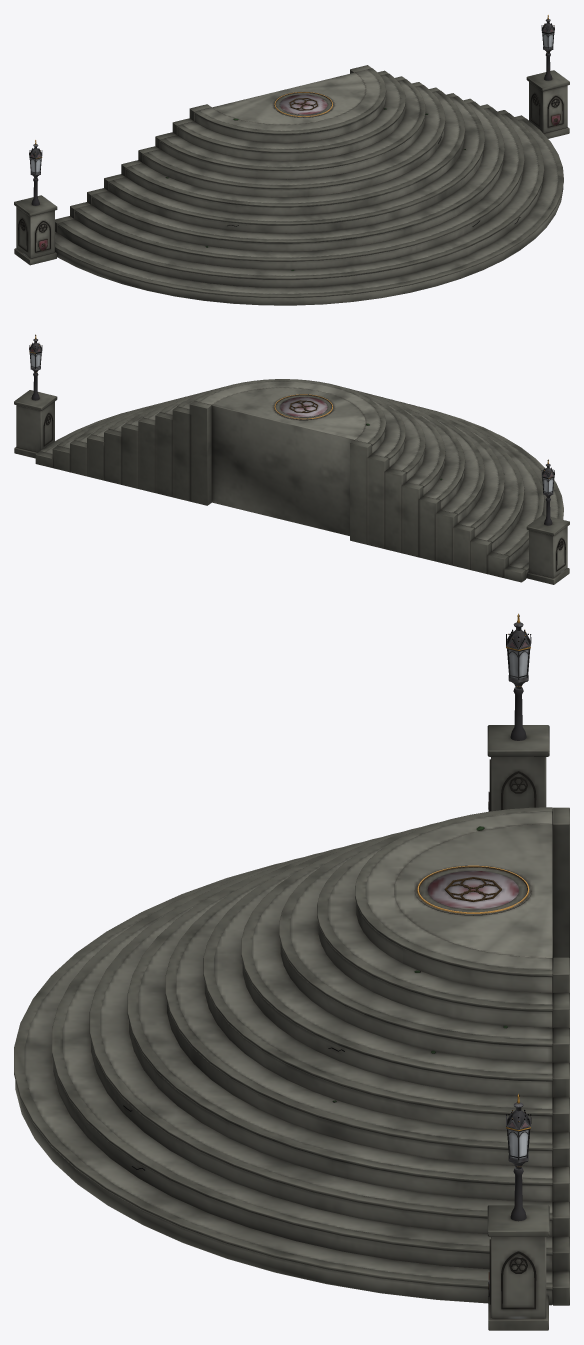
The model's file is EntranceHalfRound.fbx.
The picture shows the model from 3 angles, top to bottom: view 1: azimuth 30°, elevation 25°; view 2: azimuth 150°, elevation 25°; view 3: azimuth 270°, elevation 25°; orthographic projection. The views are drawn at different scales.
Visible parts, largest first — view 1: EntranceHalfRound_Main, EntranceHalfRound_Noses, EntranceHalfRound_Newels; view 2: EntranceHalfRound_Main, EntranceHalfRound_Noses, EntranceHalfRound_Newels; view 3: EntranceHalfRound_Main, EntranceHalfRound_Noses, EntranceHalfRound_Newels, EntranceHalfRound_Glass.
Boxes of the visible parts, left/top/right/bottom form: EntranceHalfRound_Main: left=55, top=65, right=563, bottom=305; EntranceHalfRound_Noses: left=55, top=68, right=563, bottom=297; EntranceHalfRound_Newels: left=14, top=15, right=569, bottom=265; EntranceHalfRound_Main: left=35, top=381, right=558, bottom=582; EntranceHalfRound_Noses: left=40, top=379, right=563, bottom=571; EntranceHalfRound_Newels: left=14, top=334, right=569, bottom=584; EntranceHalfRound_Main: left=15, top=807, right=569, bottom=1305; EntranceHalfRound_Noses: left=14, top=807, right=552, bottom=1290; EntranceHalfRound_Newels: left=487, top=613, right=549, bottom=1330; EntranceHalfRound_Glass: left=508, top=649, right=528, bottom=1159.
Size of the model in its own units: 3474 by 719 by 1612.
